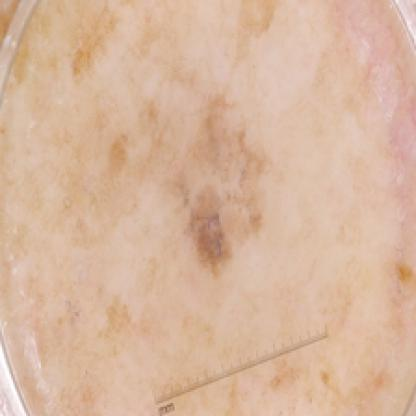malignant: (174, 76, 264, 266)
